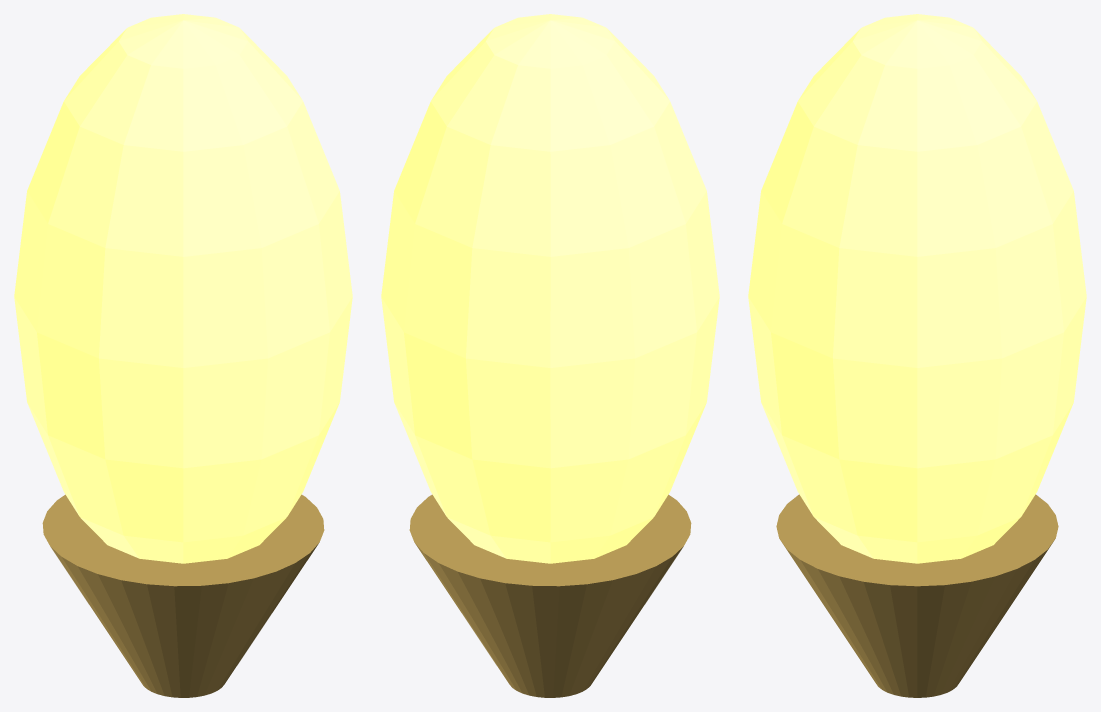
Rendered from balanormal_mesh.glb.
3 renders of one model, left to right at view 1: azimuth 30°, elevation 25°; view 2: azimuth 150°, elevation 25°; view 3: azimuth 270°, elevation 25°, orthographic.
Visible parts, largest first — view 1: BalaNormal; view 2: BalaNormal; view 3: BalaNormal.
Part boxes in pixels (x1,y1,x2,y2): BalaNormal: (14, 14, 352, 697); BalaNormal: (381, 14, 719, 697); BalaNormal: (748, 14, 1086, 697).
Bounding box in the file's own units: 0.12 × 0.258 × 0.12.
